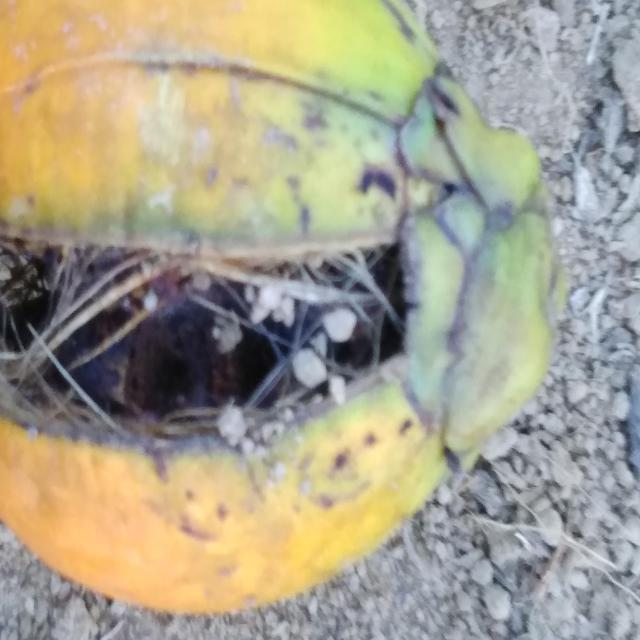damaged: (0, 0, 565, 614)
